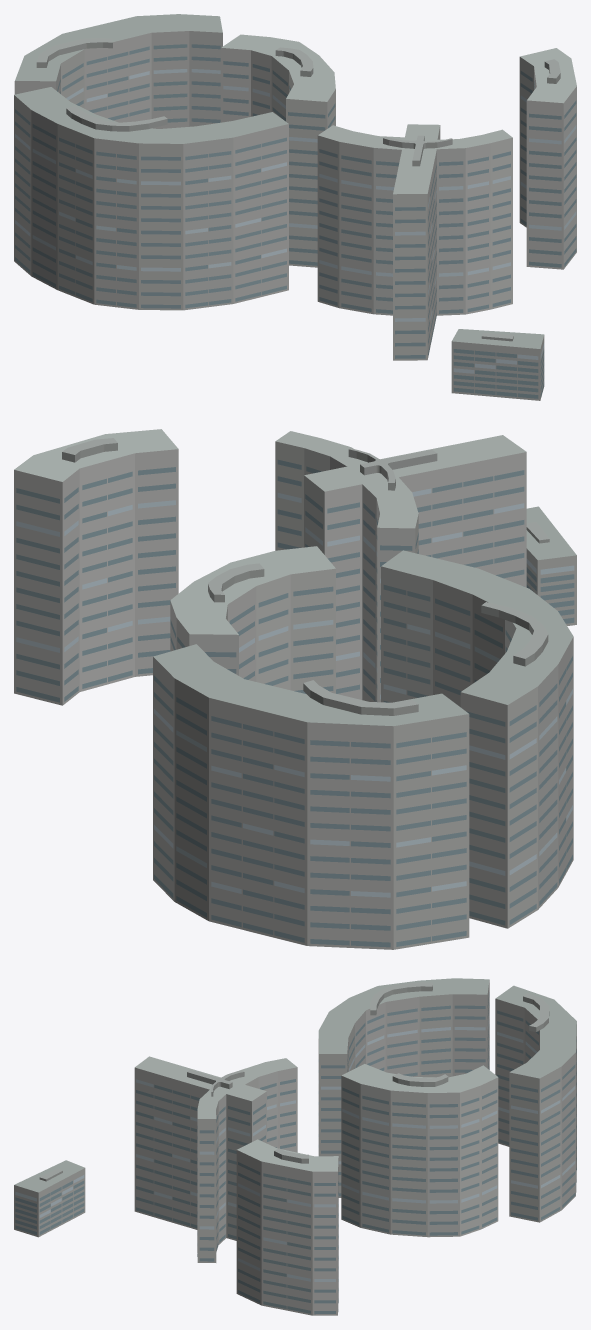
The model's file is apt-a13671205.glb.
The picture shows the model from 3 angles, top to bottom: view 1: azimuth 30°, elevation 25°; view 2: azimuth 150°, elevation 25°; view 3: azimuth 270°, elevation 25°; orthographic projection. The views are drawn at different scales.
Parts seen in each view (by area): view 1: apt-a13671205; view 2: apt-a13671205; view 3: apt-a13671205.
Boxes of the visible parts, x1,y1,x2,y2 form: apt-a13671205: (14,14,576,400); apt-a13671205: (14,429,576,949); apt-a13671205: (14,978,576,1315).
Bounding box in the file's own units: 203 × 73 × 250.
